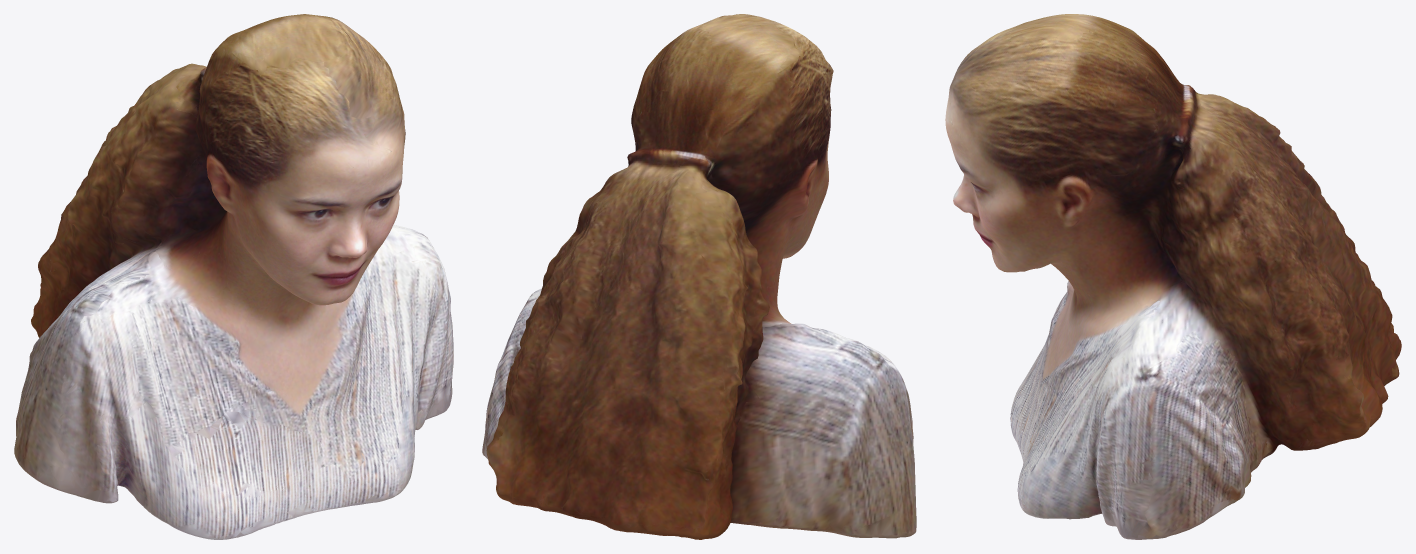
3 views of the same model, side by side, from view 1: azimuth 30°, elevation 25°; view 2: azimuth 150°, elevation 25°; view 3: azimuth 270°, elevation 25° (orthographic). The views are drawn at different scales.
Visible parts, largest first — view 1: Object_2; view 2: Object_2; view 3: Object_2.
Part boxes in pixels (box(x1,y1,x2,y2)): Object_2: box(14, 14, 453, 539); Object_2: box(482, 14, 916, 539); Object_2: box(945, 14, 1401, 539).
Size of the model in its own units: 0.4344 by 0.4618 by 0.4188.
1 material, 1 textured.
